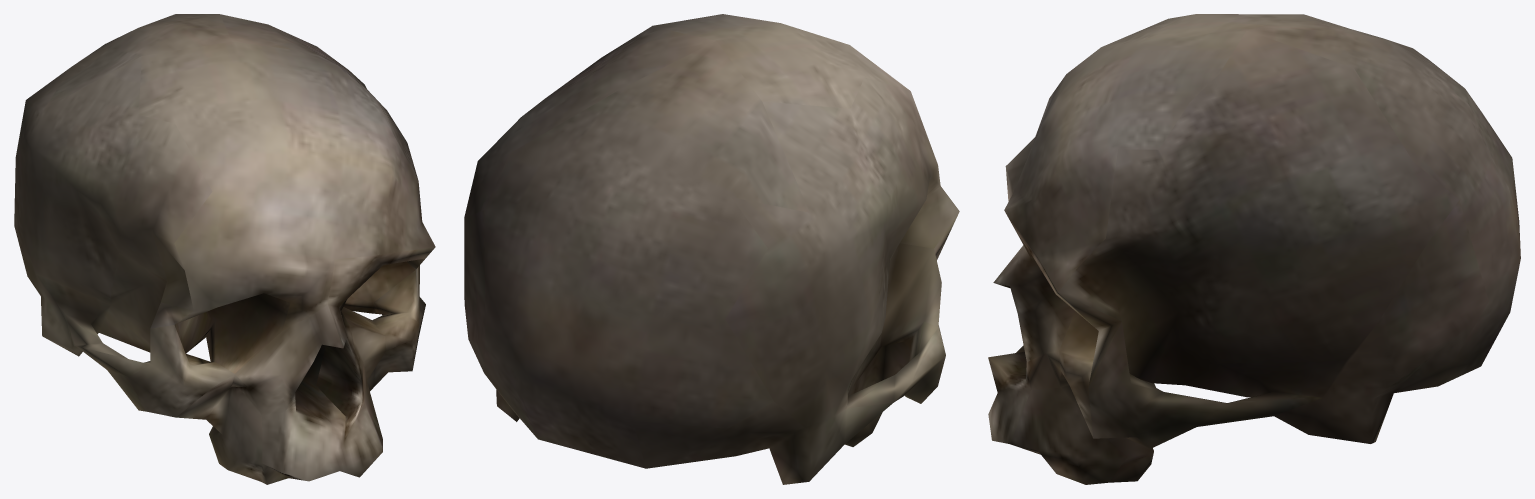
The model's file is skull_02.glb.
The picture shows the model from 3 angles, left to right: view 1: azimuth 30°, elevation 25°; view 2: azimuth 150°, elevation 25°; view 3: azimuth 270°, elevation 25°; orthographic projection. The views are drawn at different scales.
Parts seen in each view (by area): view 1: skull_02; view 2: skull_02; view 3: skull_02.
Boxes of the visible parts, x1,y1,x2,y2 form: skull_02: (14,14,435,484); skull_02: (464,14,959,484); skull_02: (988,14,1520,484).
Size of the model in its own units: 0.1584 by 0.1777 by 0.205.
Materials: 1 (1 with a texture image).
